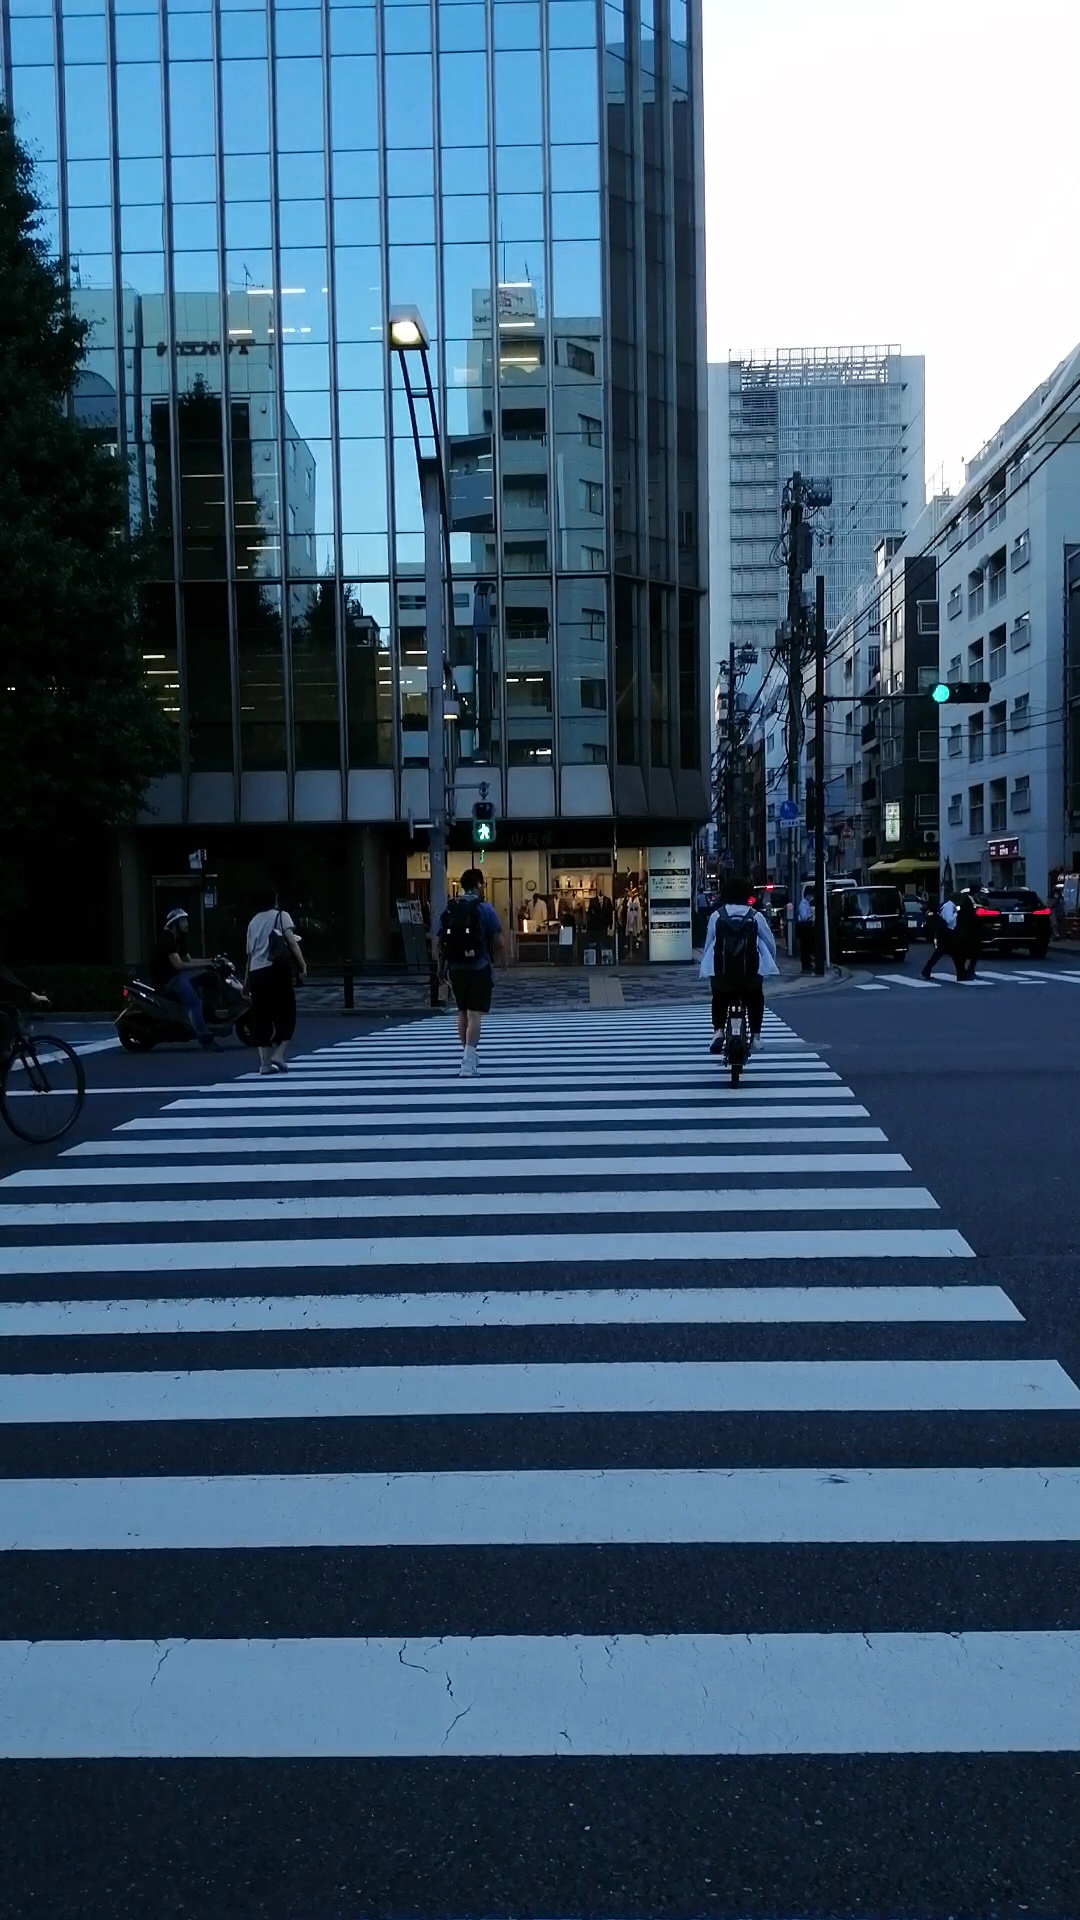green: (469, 799, 496, 844)
